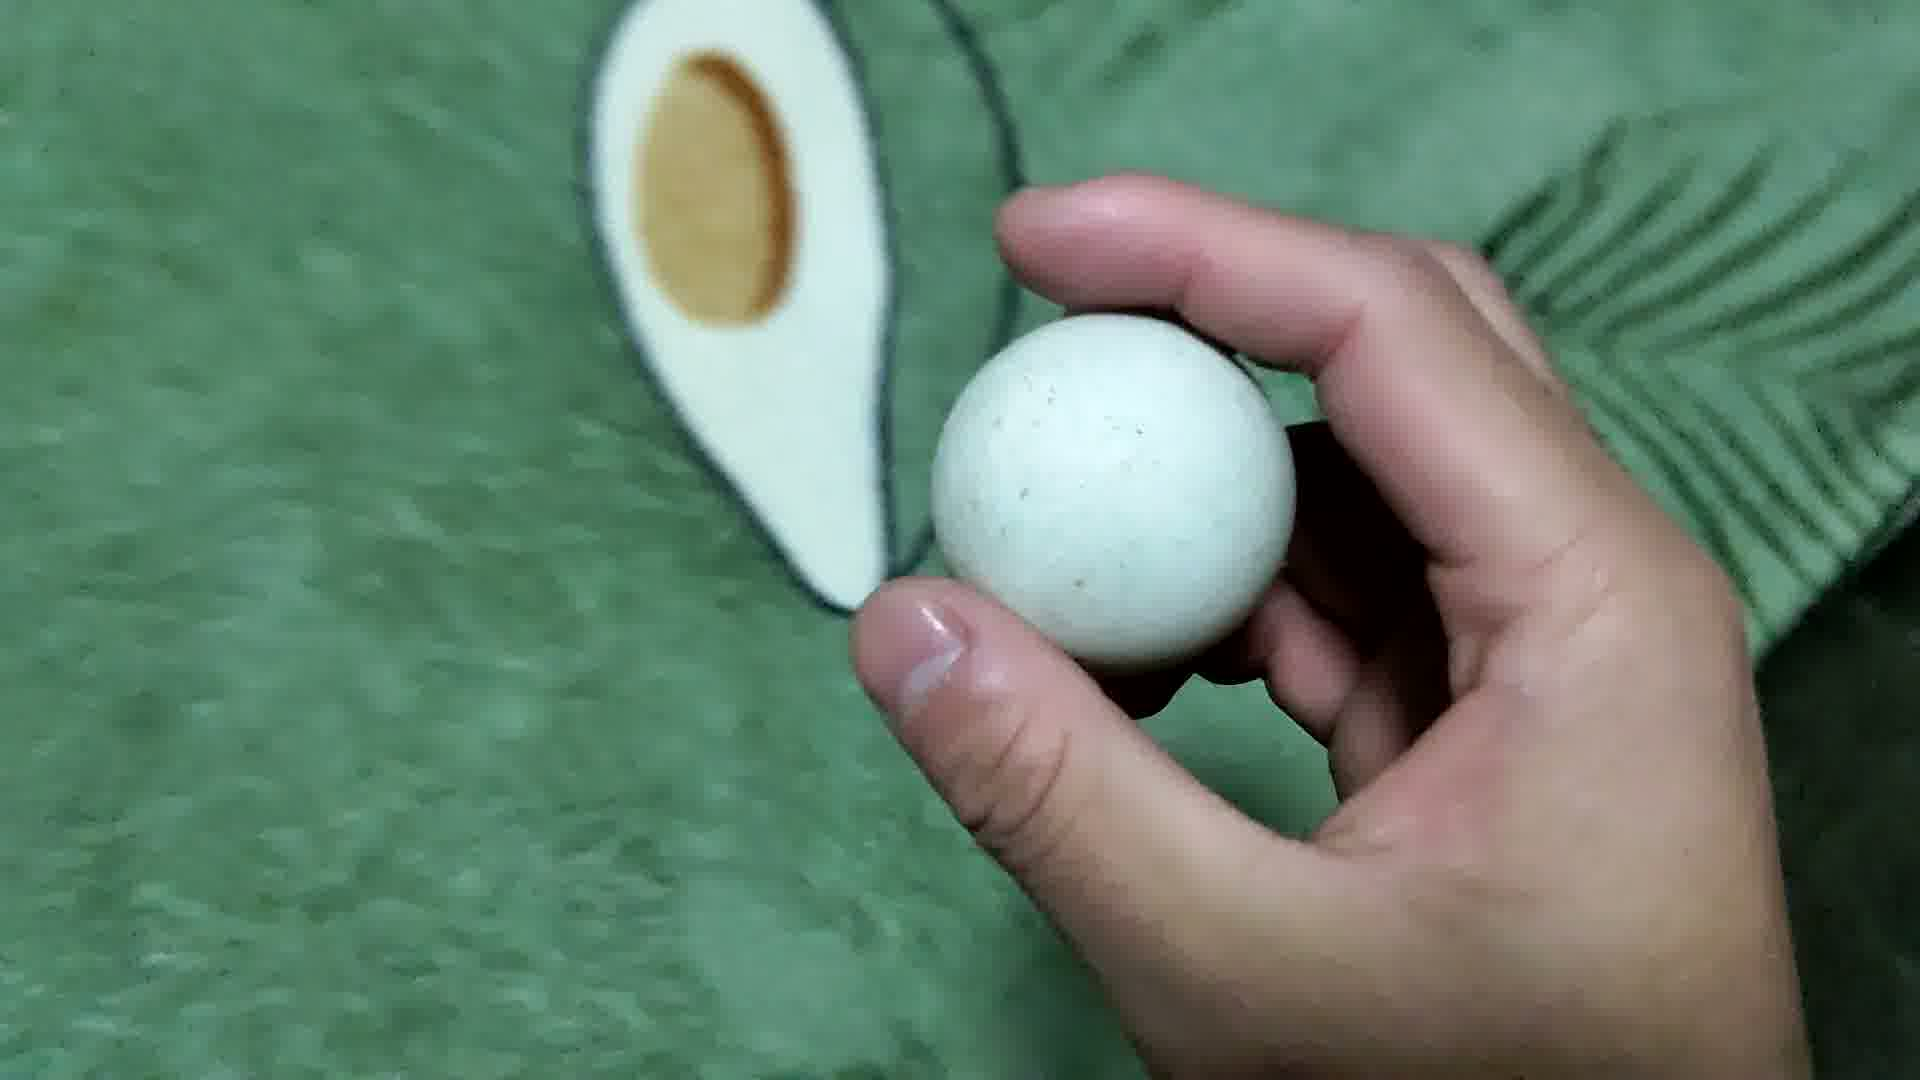Ball: (934, 309, 1296, 666)
